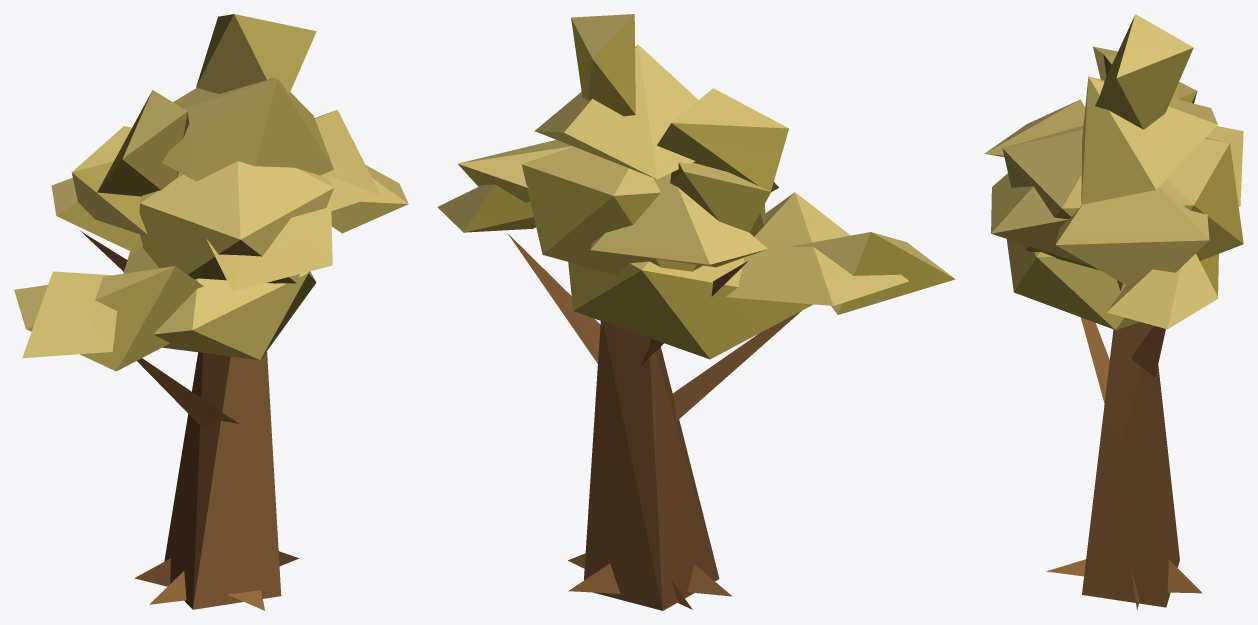
3 views of the same model, side by side, from view 1: azimuth 30°, elevation 25°; view 2: azimuth 150°, elevation 25°; view 3: azimuth 270°, elevation 25° (orthographic).
Parts seen in each view (by area): view 1: WK_RegularTree_GoldenGrove_LOD2_Compact; view 2: WK_RegularTree_GoldenGrove_LOD2_Compact; view 3: WK_RegularTree_GoldenGrove_LOD2_Compact.
Part boxes in pixels (box(x1,y1,x2,y2)): WK_RegularTree_GoldenGrove_LOD2_Compact: box(14, 14, 408, 610); WK_RegularTree_GoldenGrove_LOD2_Compact: box(437, 14, 955, 610); WK_RegularTree_GoldenGrove_LOD2_Compact: box(984, 14, 1243, 610).
Size of the model in its own units: 5.04 by 6.22 by 2.52.
